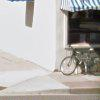Bicycle: (55, 42, 100, 82)
